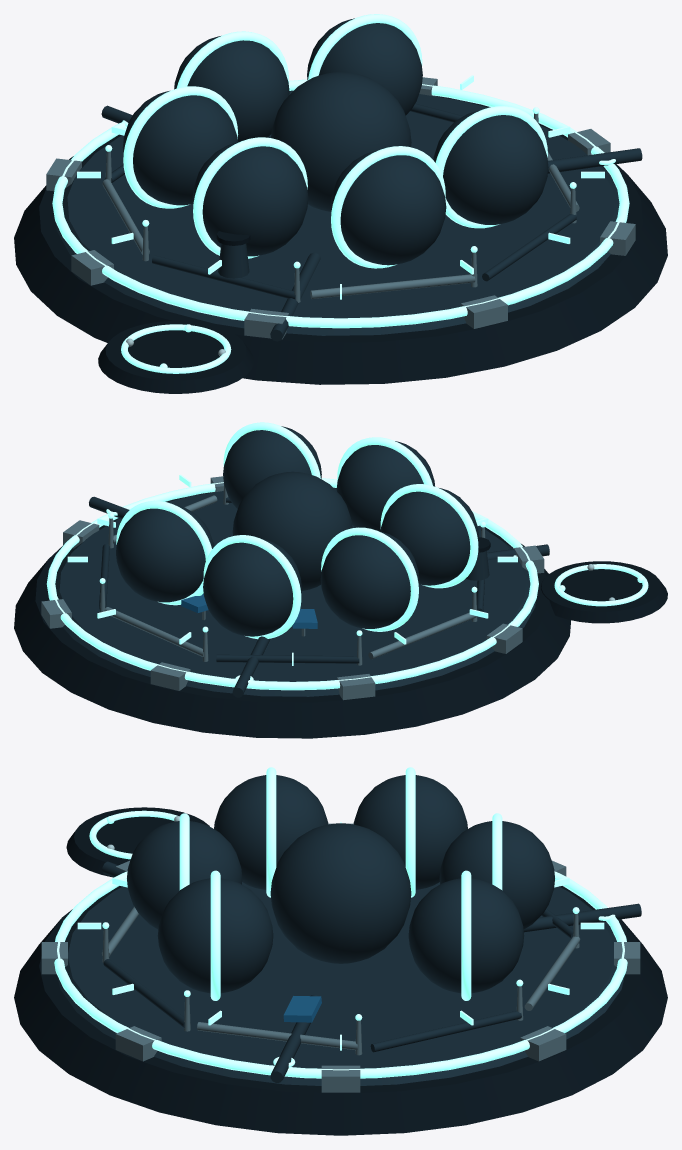
File: deuteriumTank-stage1.glb
3 renders of one model, top to bottom at view 1: azimuth 30°, elevation 25°; view 2: azimuth 150°, elevation 25°; view 3: azimuth 270°, elevation 25°, orthographic. The views are drawn at different scales.
Visible parts, largest first — view 1: fuel-tank (×7), upper-deck, armored-foundation, detail (×6), perimeter-light, landing-pad, landing-guidance-light, service-catwalk-1, service-catwalk-2, utility-conduit-2, buttress-2, buttress-4 (+8 smaller); view 2: fuel-tank (×7), upper-deck, armored-foundation, detail (×6), perimeter-light, landing-pad, landing-guidance-light, service-catwalk-4, service-catwalk-3, buttress-5, buttress-6, service-catwalk-5 (+5 smaller); view 3: fuel-tank (×7), upper-deck, armored-foundation, perimeter-light, detail (×6), landing-pad, service-catwalk-6, service-catwalk-7, utility-conduit-1, buttress-0, buttress-1, buttress-7 (+7 smaller).
Part boxes in pixels (x1,y1,x2,y2): fuel-tank (×7): (122, 18, 548, 265); upper-deck: (56, 91, 626, 335); armored-foundation: (14, 90, 667, 384); detail (×6): (123, 14, 547, 268); perimeter-light: (52, 79, 629, 328); landing-pad: (98, 321, 253, 393); landing-guidance-light: (121, 324, 231, 373); service-catwalk-1: (310, 274, 475, 298); service-catwalk-2: (152, 255, 295, 299); utility-conduit-2: (548, 148, 642, 173); buttress-2: (461, 295, 507, 328); buttress-4: (71, 250, 113, 285); fuel-tank (×7): (116, 426, 478, 636); upper-deck: (49, 488, 535, 696); armored-foundation: (14, 487, 570, 738); detail (×6): (116, 422, 478, 639); perimeter-light: (46, 478, 538, 690); landing-pad: (541, 561, 667, 623); landing-guidance-light: (554, 564, 648, 606); service-catwalk-4: (216, 654, 359, 663); service-catwalk-3: (368, 612, 476, 659); buttress-5: (337, 674, 375, 700); buttress-6: (150, 662, 190, 690); service-catwalk-5: (104, 607, 203, 656); fuel-tank (×7): (127, 775, 554, 993); upper-deck: (57, 882, 624, 1085); armored-foundation: (14, 886, 667, 1135); perimeter-light: (54, 871, 627, 1078); detail (×6): (179, 767, 502, 1000); landing-pad: (66, 807, 209, 877); service-catwalk-6: (370, 1011, 521, 1052); service-catwalk-7: (197, 1022, 357, 1050); utility-conduit-1: (523, 903, 641, 932); buttress-0: (321, 1065, 360, 1092); buttress-1: (115, 1026, 161, 1061); buttress-7: (520, 1026, 566, 1061).
Bounding box in the file's own units: 9.24 × 2.41 × 8.53.
